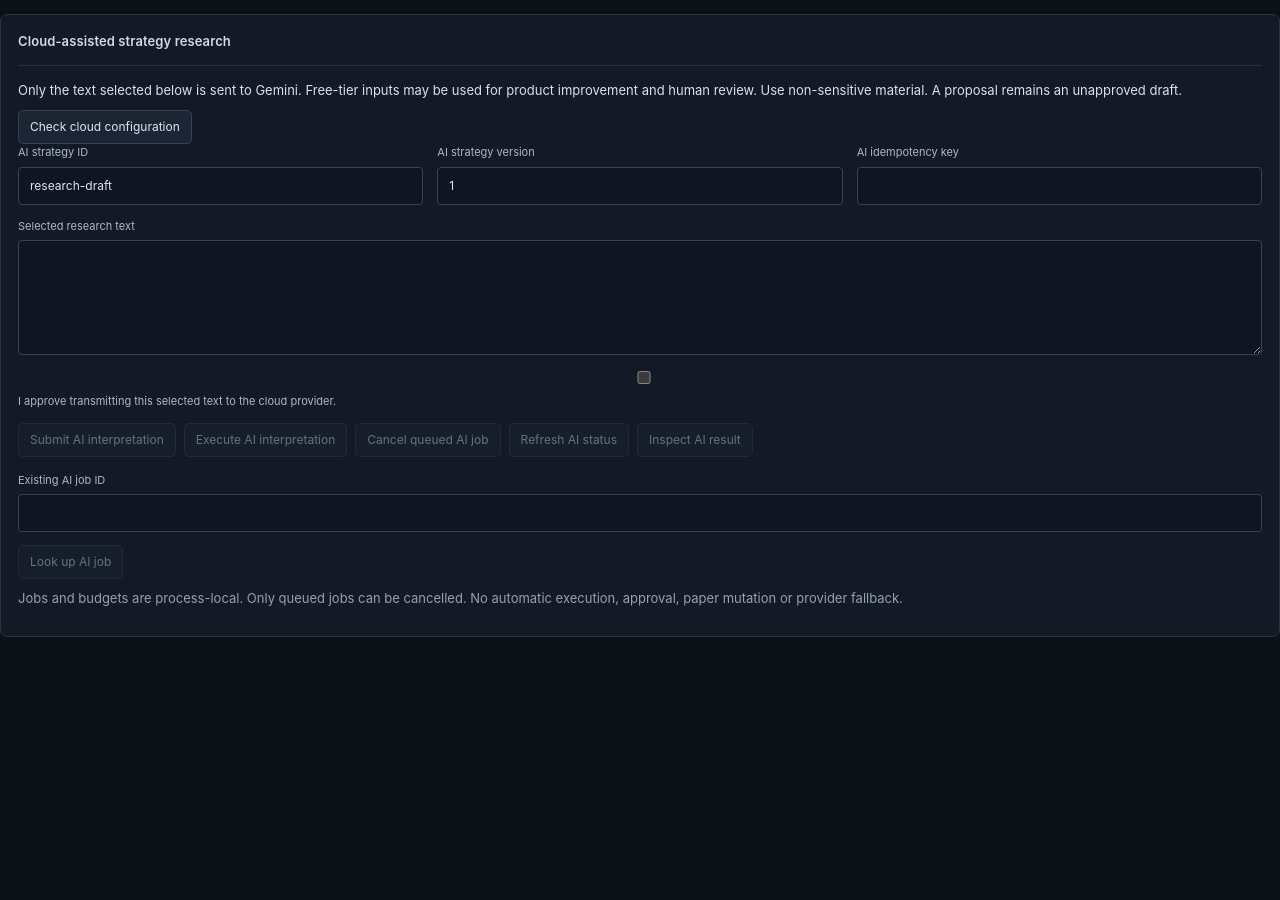
Test: cloud research UI and authenticated routes › shows credentials_missing and disables submission
What coordinates should you click on to do the following:
click the button "Check cloud configuration"
I would click on:
 (105, 127)
Its box is [18,110,192,144].
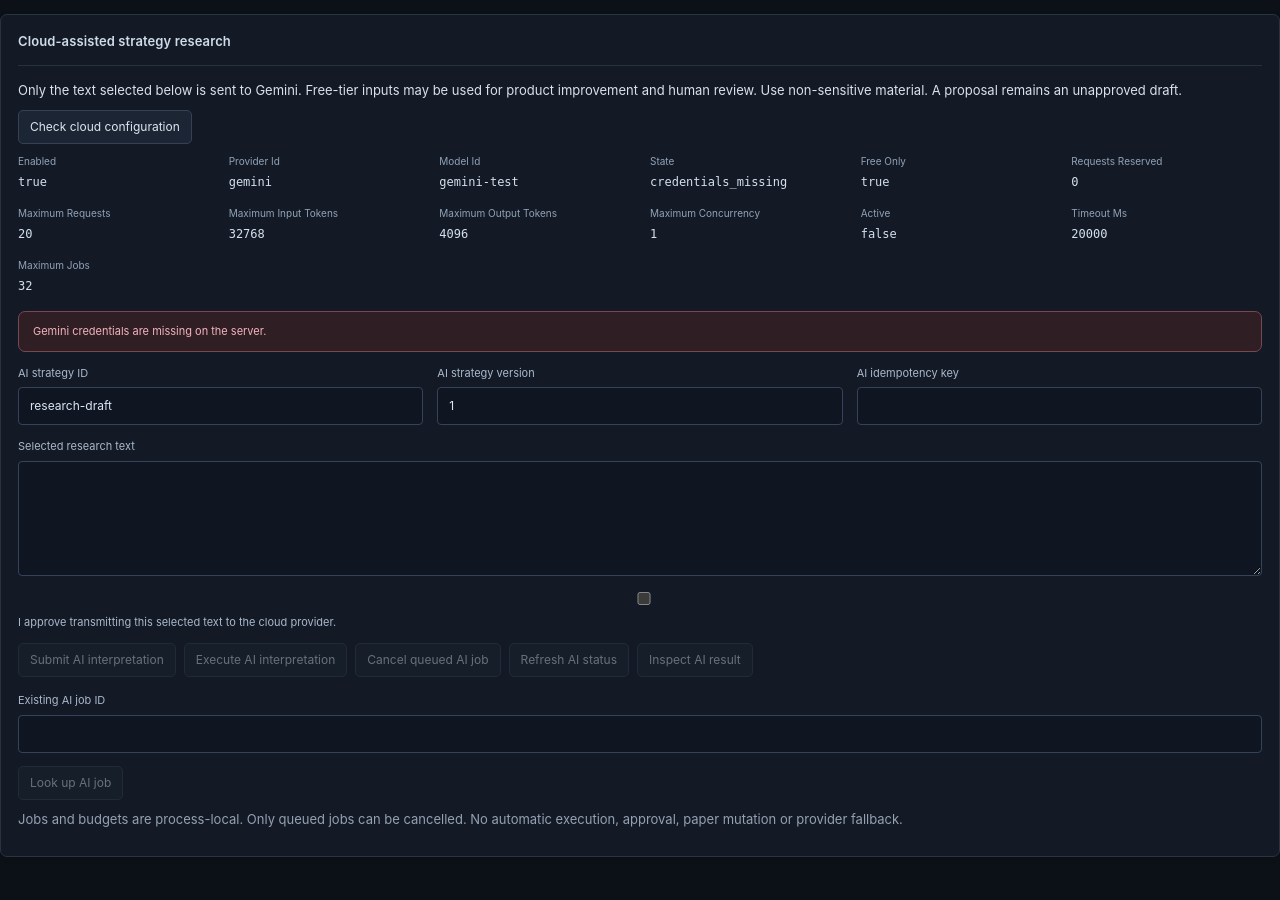
Expected: the button "Submit AI interpretation" is disabled, [18,643,176,677]
Expected: the message "Gemini credentials are missing on the server." is shown, [18,311,1262,352]
